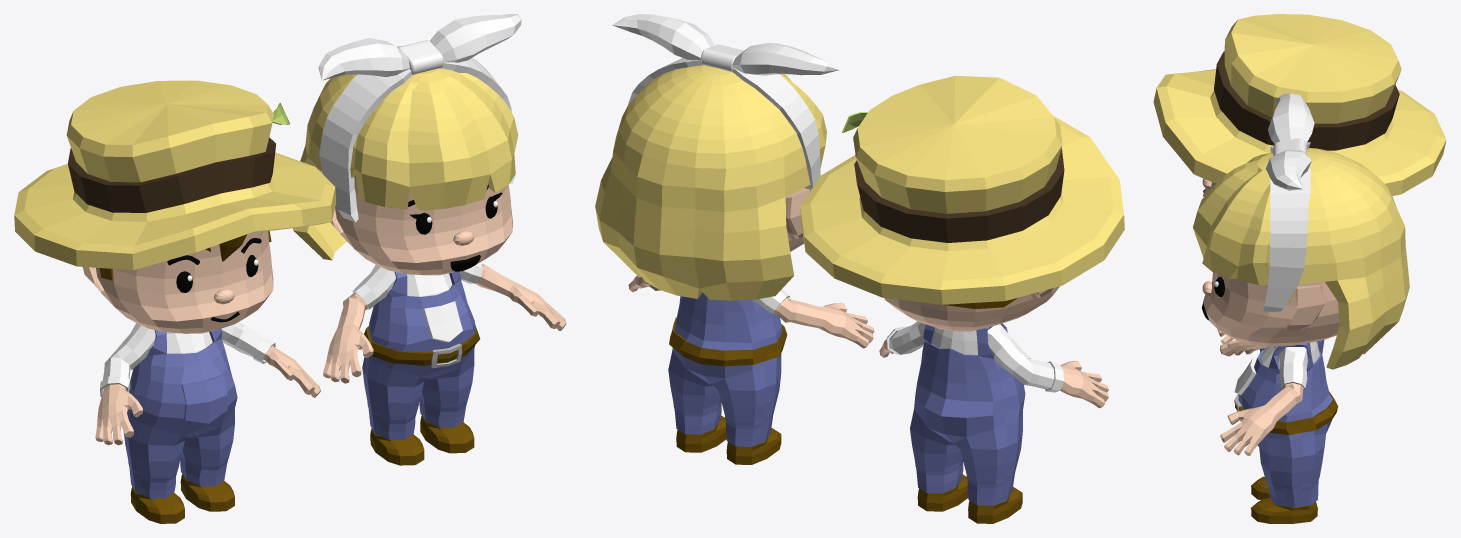
File: Farmer Characters.glb
The picture shows the model from 3 angles, left to right: view 1: azimuth 30°, elevation 25°; view 2: azimuth 150°, elevation 25°; view 3: azimuth 270°, elevation 25°; orthographic projection. The views are drawn at different scales.
Size of the model in its own units: 12.39 by 9.78 by 6.92.
